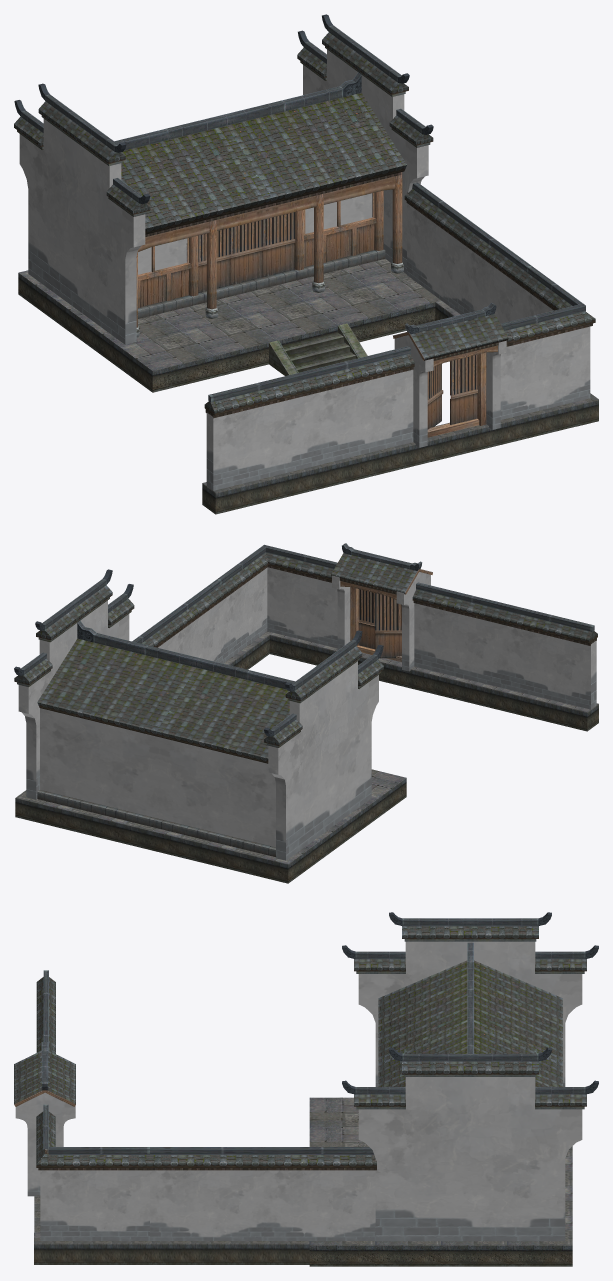
File: house01.fbx
The picture shows the model from 3 angles, top to bottom: view 1: azimuth 30°, elevation 25°; view 2: azimuth 150°, elevation 25°; view 3: azimuth 270°, elevation 25°; orthographic projection. The views are drawn at different scales.
Visible parts, largest first — view 1: Box092, Box011, Box001, Box202, Box121, Box192, Box210, Box179, Box211, Box203, 图形003 (×2), 图形002 (+32 smaller); view 2: Box162, Box011, Box001, Box202, Box092, Box192, Box179, Box211, Box210, Box186, Box203, 图形003 (×2) (+20 smaller); view 3: Box179, Box121, Box011, Box092, Box186, Box001, Box209, Box166, 图形003, Box208, Box180, Box002 (+16 smaller).
Boxes of the visible parts, <box> form: Box092: <box>18,243,440,392</box>; Box011: <box>121,92,406,234</box>; Box001: <box>19,119,145,344</box>; Box202: <box>206,369,413,490</box>; Box121: <box>407,203,522,323</box>; Box192: <box>500,326,590,419</box>; Box210: <box>364,402,575,477</box>; Box179: <box>303,49,428,274</box>; Box211: <box>202,454,366,514</box>; Box203: <box>204,354,414,418</box>; 图形003 (×2): <box>405,302,508,360</box>; 图形002: <box>114,72,361,150</box>; Box162: <box>40,708,275,847</box>; Box011: <box>37,638,289,763</box>; Box001: <box>268,661,378,860</box>; Box202: <box>414,603,596,709</box>; Box092: <box>15,769,406,883</box>; Box192: <box>267,567,337,648</box>; Box179: <box>18,600,129,799</box>; Box211: <box>454,677,598,731</box>; Box210: <box>269,632,457,698</box>; Box186: <box>223,568,267,662</box>; Box203: <box>412,589,597,645</box>; 图形003 (×2): <box>331,543,422,594</box>; Box179: <box>358,1077,582,1241</box>; Box121: <box>150,1170,375,1240</box>; Box011: <box>378,960,562,1086</box>; Box092: <box>309,1097,572,1266</box>; Box186: <box>40,1170,149,1240</box>; Box001: <box>358,941,582,1086</box>; Box209: <box>34,1232,309,1264</box>; Box166: <box>150,1155,376,1170</box>; 图形003: <box>14,1050,75,1104</box>; Box208: <box>15,1092,75,1196</box>; Box180: <box>402,1061,538,1076</box>; Box002: <box>402,926,538,941</box>.
Bounding box in the file's own units: 1806 × 963 × 2415.
